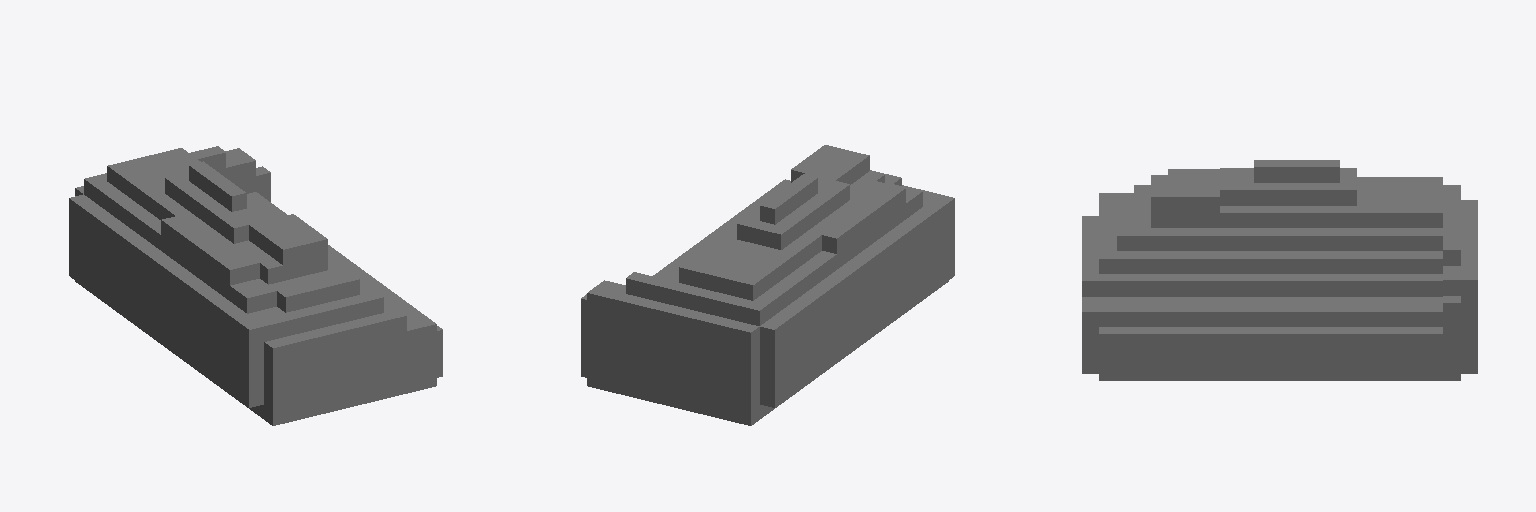
3 views of the same model, side by side, from view 1: azimuth 30°, elevation 25°; view 2: azimuth 150°, elevation 25°; view 3: azimuth 270°, elevation 25° (orthographic).
Parts seen in each view (by area): view 1: object 1; view 2: object 1; view 3: object 1.
Part boxes in pixels (x1,y1,x2,y2): object 1: (69,146,442,425); object 1: (581,145,954,425); object 1: (1082,160,1477,380).
Size of the model in its own units: 1.3 by 1 by 2.3.
Materials: 1 (1 with a texture image).